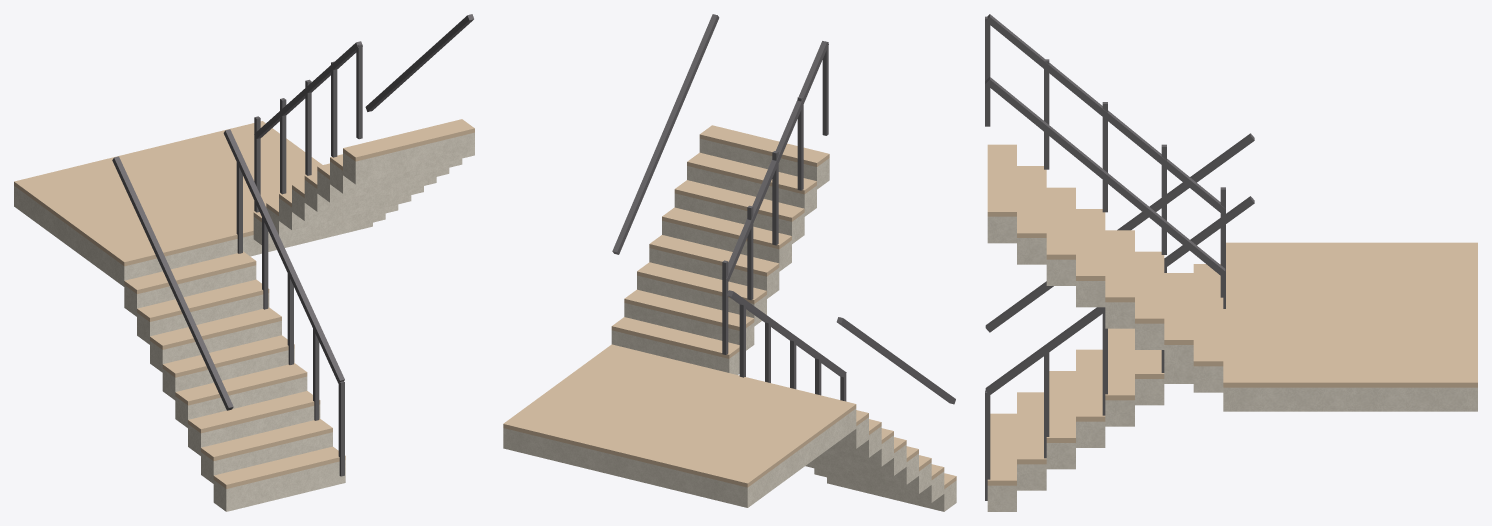
Rendered from stairs_u_3m2.glb.
3 views of the same model, side by side, from view 1: azimuth 30°, elevation 25°; view 2: azimuth 150°, elevation 25°; view 3: azimuth 270°, elevation 25° (orthographic). The views are drawn at different scales.
Visible parts, largest first — view 1: stairs_u_3m2_floor, stairs_u_3m2_plaster, stairs_u_3m2_iron; view 2: stairs_u_3m2_floor, stairs_u_3m2_plaster, stairs_u_3m2_iron; view 3: stairs_u_3m2_floor, stairs_u_3m2_plaster, stairs_u_3m2_iron.
Boxes of the visible parts, box(x1,y1,x2,y2) form: stairs_u_3m2_floor: box(14, 119, 474, 488); stairs_u_3m2_plaster: box(14, 132, 474, 511); stairs_u_3m2_iron: box(112, 14, 473, 476); stairs_u_3m2_floor: box(503, 125, 956, 488); stairs_u_3m2_plaster: box(503, 138, 956, 511); stairs_u_3m2_iron: box(612, 14, 955, 404); stairs_u_3m2_floor: box(987, 144, 1477, 485); stairs_u_3m2_plaster: box(987, 216, 1477, 511); stairs_u_3m2_iron: box(985, 14, 1254, 500).
Bounding box in the file's own units: 2.5 × 4.2 × 3.72.
Materials: 3 (1 with a texture image).
